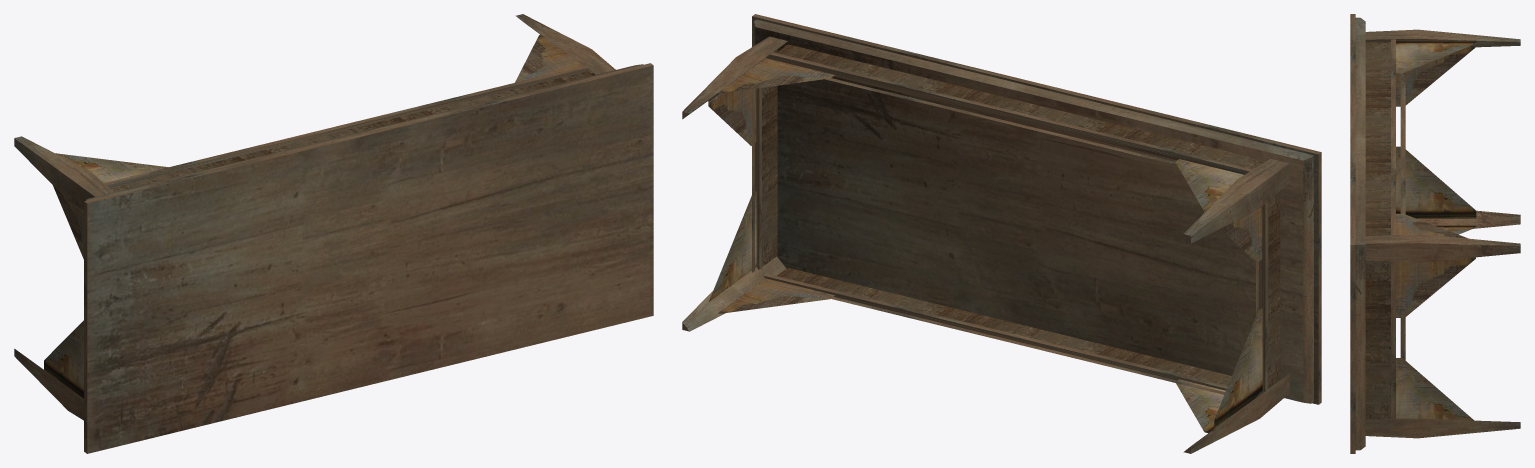
The model's file is furniture_northafrica_longtable.glb.
3 views of the same model, side by side, from view 1: azimuth 30°, elevation 25°; view 2: azimuth 150°, elevation 25°; view 3: azimuth 270°, elevation 25° (orthographic). The views are drawn at different scales.
Size of the model in its own units: 113 by 47.81 by 35.27.
Materials: 1 (1 with a texture image).
